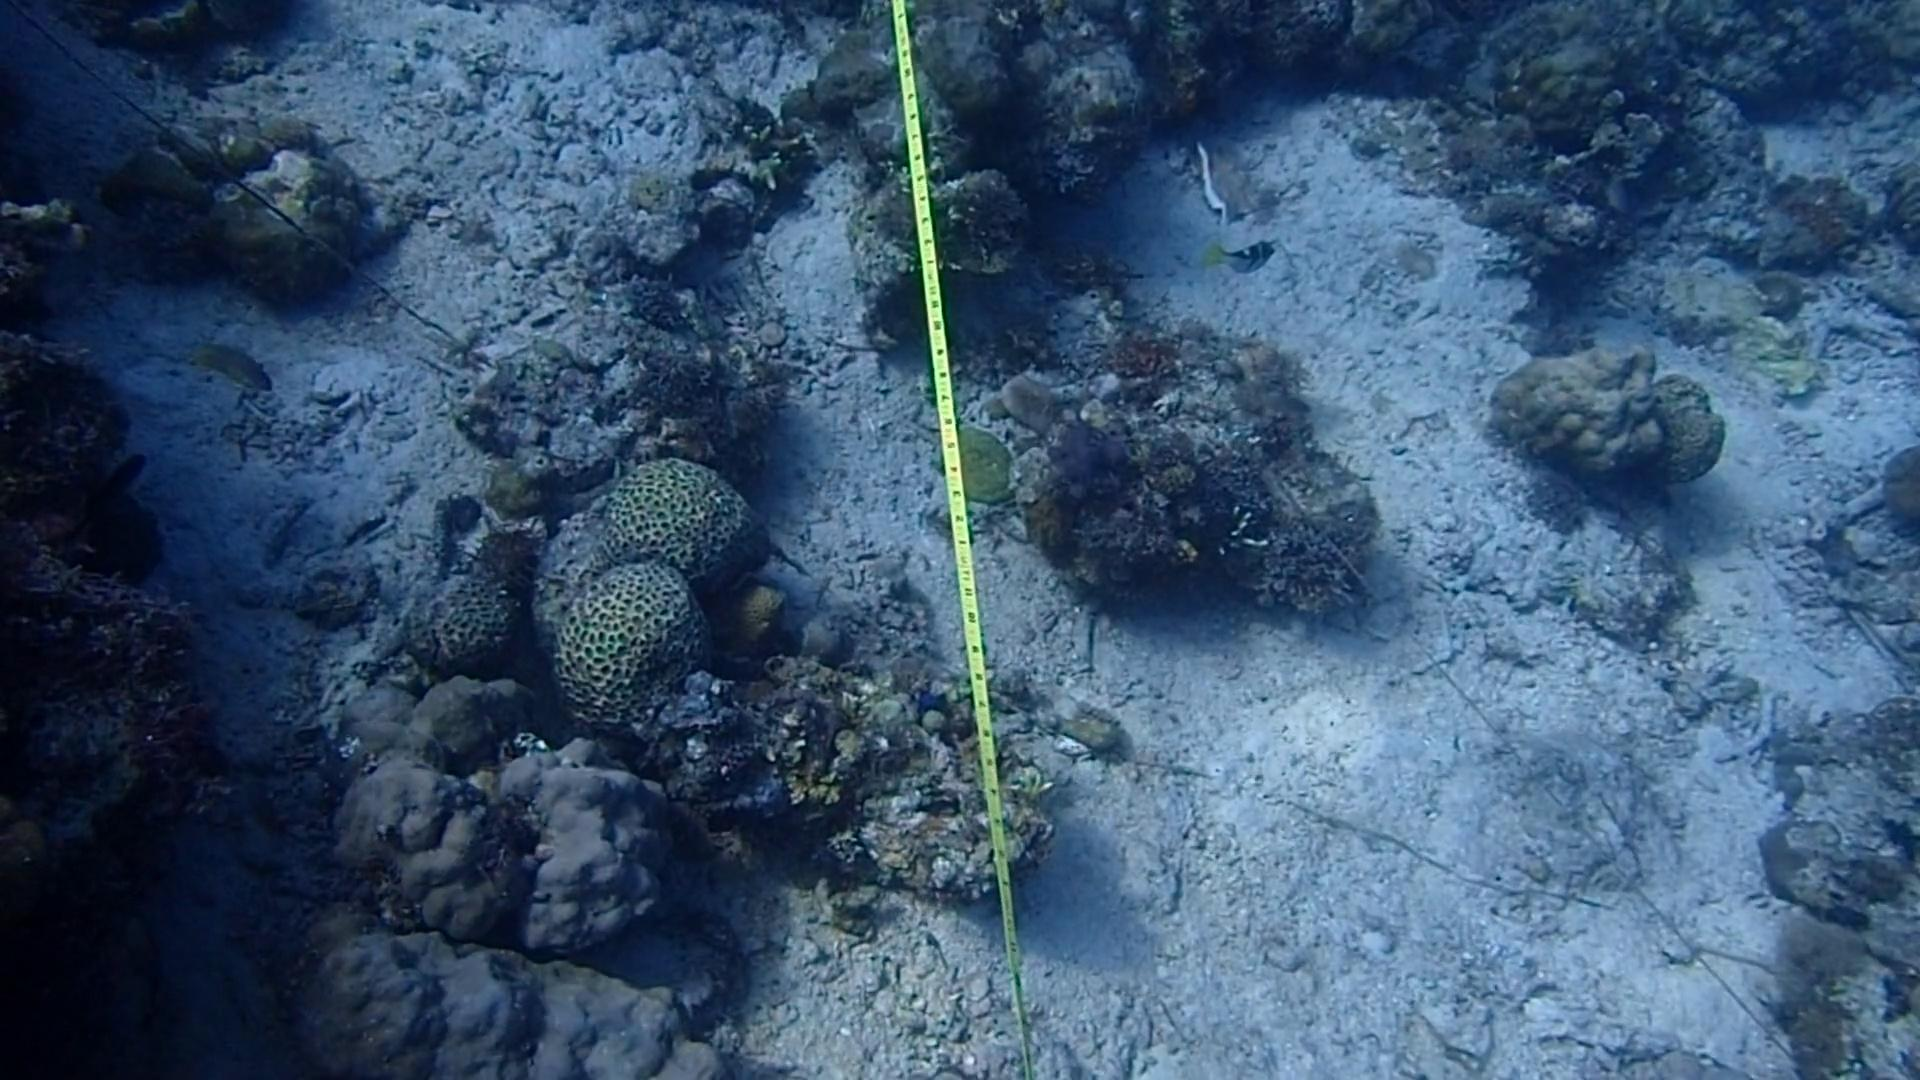Striped Fish: (1208, 237, 1290, 282)
